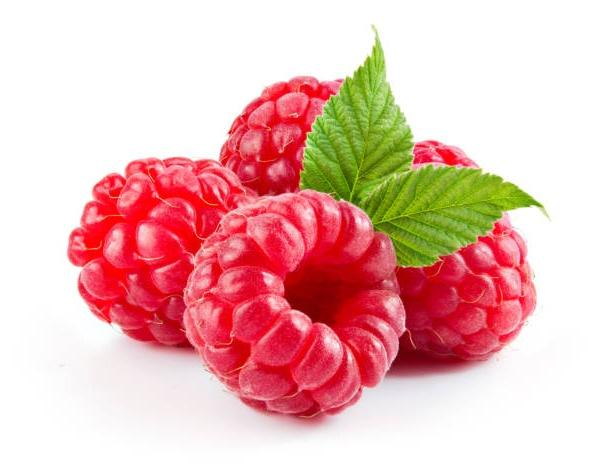raspberry: (181, 187, 406, 418), (66, 155, 254, 347), (393, 138, 537, 362), (218, 74, 345, 196)
